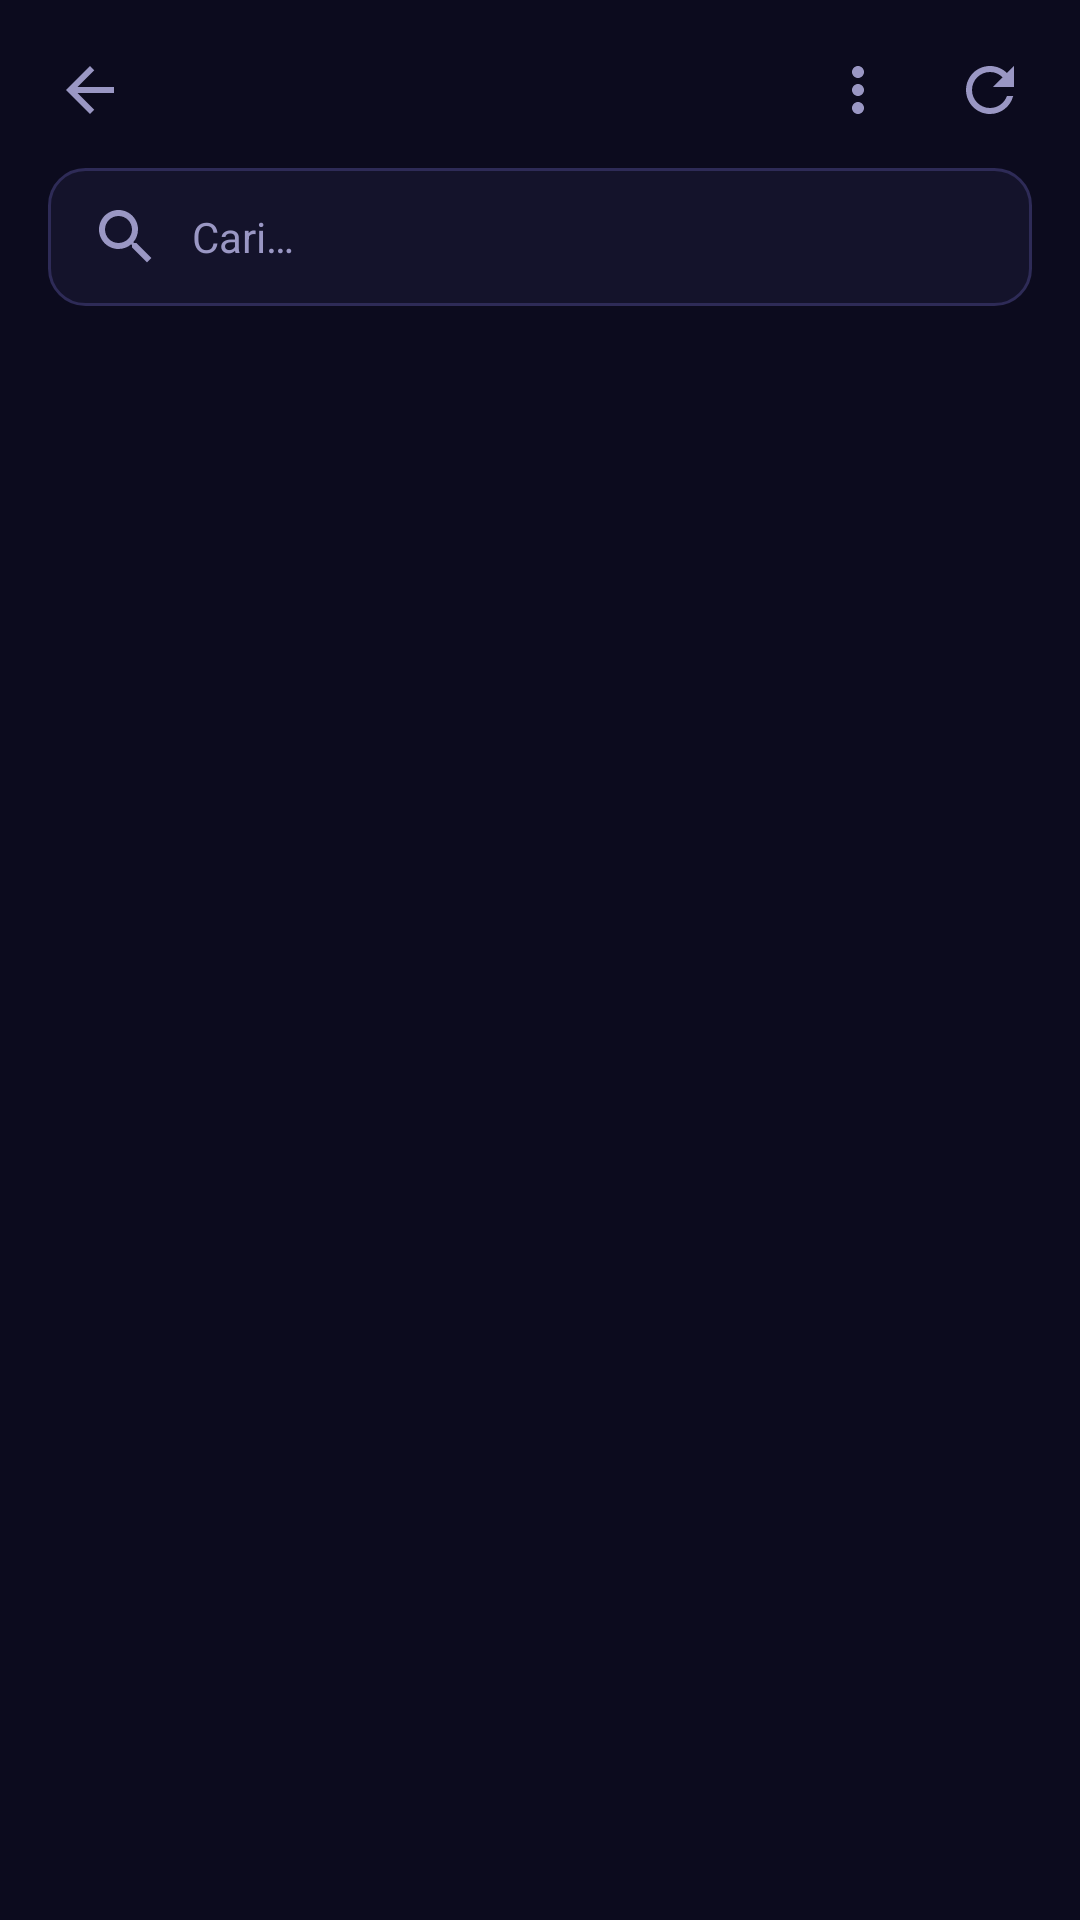

Named icons in this screenshot (1080 x 1920) and their bounding boxes, BBox(x1, y1, x2, y2):
Kembali: BBox(66, 66, 114, 114)
Menu: BBox(852, 66, 864, 114)
Refresh: BBox(966, 66, 1014, 114)
